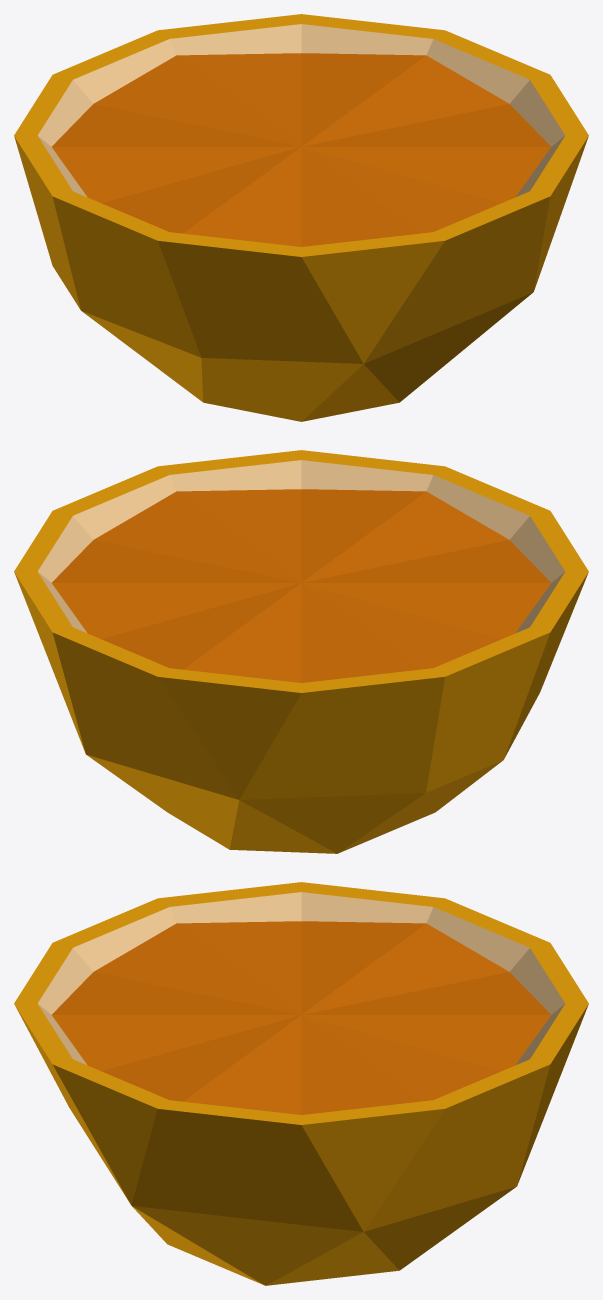
File: OrangeSlice.glb
The picture shows the model from 3 angles, top to bottom: view 1: azimuth 30°, elevation 25°; view 2: azimuth 150°, elevation 25°; view 3: azimuth 270°, elevation 25°; orthographic projection.
Parts seen in each view (by area): view 1: OrangeSlice; view 2: OrangeSlice; view 3: OrangeSlice.
Part boxes in pixels (box(x1,y1,x2,y2)): OrangeSlice: box(14, 14, 588, 421); OrangeSlice: box(14, 450, 588, 853); OrangeSlice: box(14, 882, 588, 1285).
Bounding box in the file's own units: 0.1279 × 0.0639 × 0.1279.
